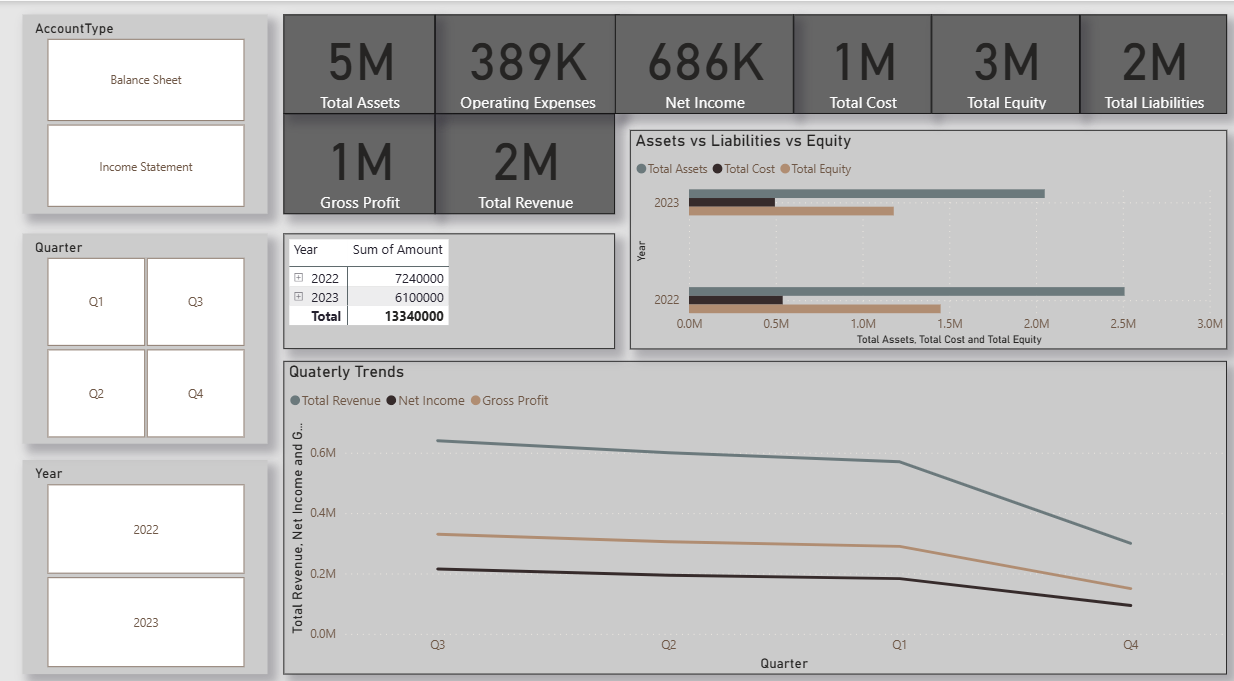

The page's visual inventory and layout, read from the dashboard file:
{"tool":"powerbi","page":{"name":"Page 1","canvas":[1280,720],"ordinal":0},"visuals":[{"type":"card","fields":{"Values":["FinancialData.Total Revenue"]},"box":[449.8,116.3,186.1,103.9],"z":0},{"type":"card","fields":{"Values":["FinancialData.Total Cost"]},"box":[820.4,14,142.7,102.4],"z":1},{"type":"card","fields":{"Values":["FinancialData.Gross Profit"]},"box":[293.1,116.3,156.6,103.9],"z":2},{"type":"card","fields":{"Values":["FinancialData.Operating Expenses"]},"box":[449.8,14,190.8,102.4],"z":3},{"type":"card","fields":{"Values":["FinancialData.Net Income"]},"box":[635.9,14,184.6,102.4],"z":4},{"type":"card","fields":{"Values":["FinancialData.Total Assets"]},"box":[293.1,14,156.6,102.4],"z":5},{"type":"card","fields":{"Values":["FinancialData.Total Liabilities"]},"box":[1116.6,14,152,102.4],"z":6},{"type":"card","fields":{"Values":["FinancialData.Total Equity"]},"box":[963.1,14,153.5,102.4],"z":7},{"type":"lineChart","title":"Quaterly Trends","fields":{"Y":["FinancialData.Total Revenue","FinancialData.Net Income","FinancialData.Gross Profit"],"Category":["FinancialData.Quarter"]},"box":[293.1,372.2,975.5,324.1],"z":8},{"type":"pivotTable","title":"Hierarchical financial data breakdowns","fields":{"Rows":["FinancialData.Year","FinancialData.Quarter","FinancialData.Amount"],"Values":["Sum(FinancialData.Amount)"]},"box":[293.1,240.4,342.7,119.4],"z":9},{"type":"clusteredBarChart","title":"Assets vs Liabilities vs Equity","fields":{"Y":["FinancialData.Total Assets","FinancialData.Total Cost","FinancialData.Total Equity"],"Category":["FinancialData.Year"]},"box":[651.4,133.4,617.3,226.4],"z":10},{"type":"slicer","fields":{"Values":["FinancialData.Year"]},"box":[22.7,474.3,253.2,221.1],"z":11},{"type":"slicer","fields":{"Values":["FinancialData.Quarter"]},"box":[22.7,240,253.2,217.3],"z":12},{"type":"slicer","fields":{"Values":["FinancialData.AccountType"]},"box":[22.7,13.2,253.2,206],"z":13}]}

Visuals, with their boxes in screenshot pixels (x1, y1, x2, y2), scaled from the page's 1280x720 canvas onto the 1234x681 screenshot:
card - FinancialData.Total Revenue: <box>434,110,613,208</box>
card - FinancialData.Total Cost: <box>791,13,928,110</box>
card - FinancialData.Gross Profit: <box>283,110,434,208</box>
card - FinancialData.Operating Expenses: <box>434,13,618,110</box>
card - FinancialData.Net Income: <box>613,13,791,110</box>
card - FinancialData.Total Assets: <box>283,13,434,110</box>
card - FinancialData.Total Liabilities: <box>1076,13,1223,110</box>
card - FinancialData.Total Equity: <box>928,13,1076,110</box>
"Quaterly Trends" lineChart: <box>283,352,1223,659</box>
"Hierarchical financial data breakdowns" pivotTable: <box>283,227,613,340</box>
"Assets vs Liabilities vs Equity" clusteredBarChart: <box>628,126,1223,340</box>
slicer - FinancialData.Year: <box>22,449,266,658</box>
slicer - FinancialData.Quarter: <box>22,227,266,433</box>
slicer - FinancialData.AccountType: <box>22,12,266,207</box>
